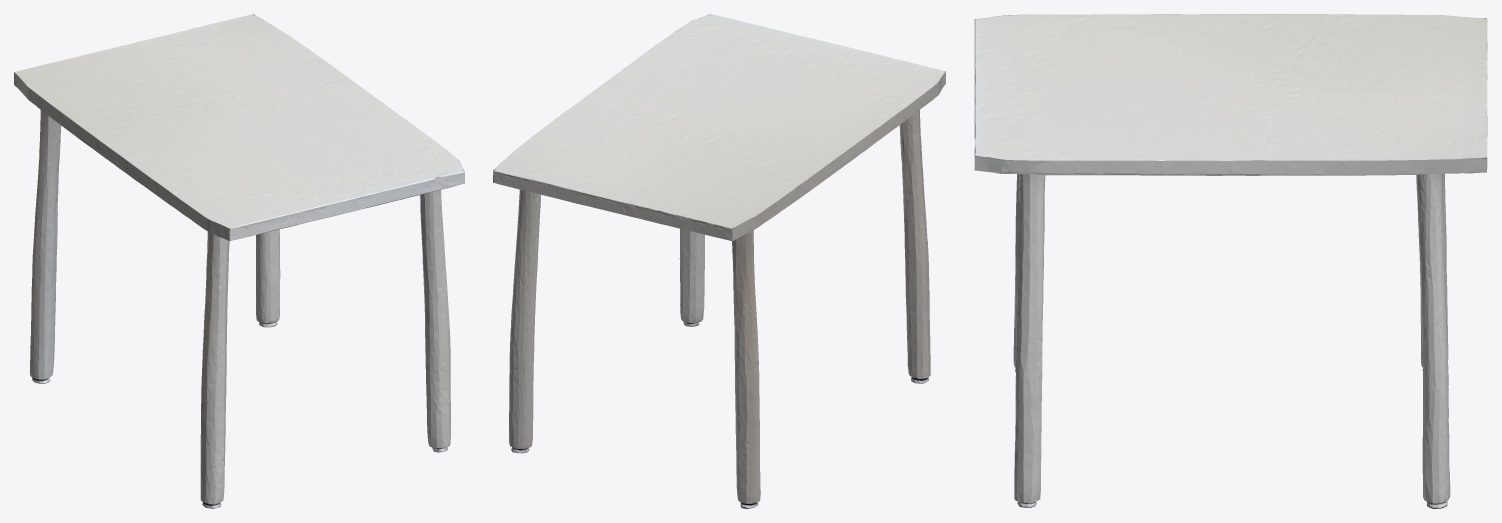
3 views of the same model, side by side, from view 1: azimuth 30°, elevation 25°; view 2: azimuth 150°, elevation 25°; view 3: azimuth 270°, elevation 25° (orthographic). The views are drawn at different scales.
Visible parts, largest first — view 1: geometry_0; view 2: geometry_0; view 3: geometry_0.
Boxes of the visible parts, box(x1,y1,x2,y2) form: geometry_0: box(14, 14, 464, 508); geometry_0: box(493, 14, 945, 508); geometry_0: box(974, 14, 1487, 508).
Bounding box in the file's own units: 0.6791 × 0.7566 × 1.
1 material, 1 textured.
